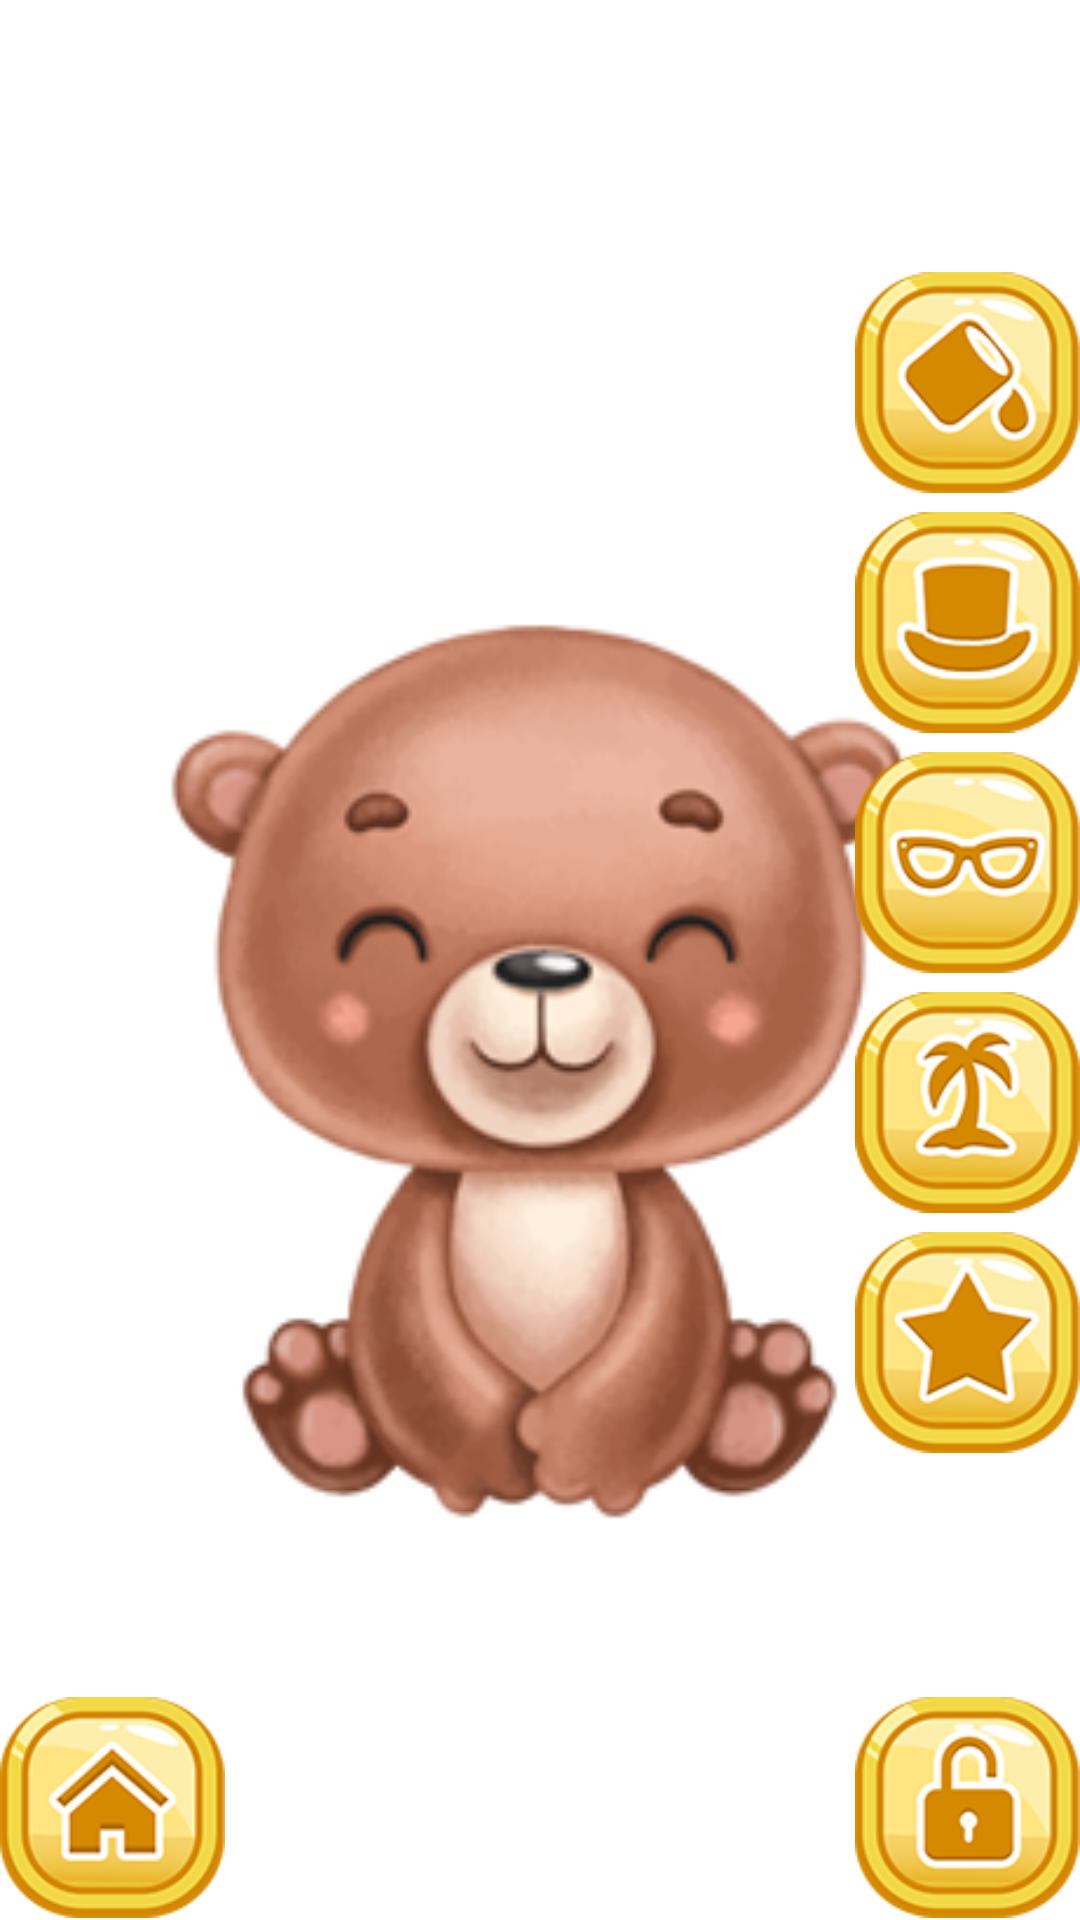

Named icons in this screenshot (1080px x 1920px) and their centers, (x,y):
colors: (967,382)
glasses: (967,862)
hats: (967,622)
home: (112,1807)
star: (967,1342)
unlock: (967,1807)
